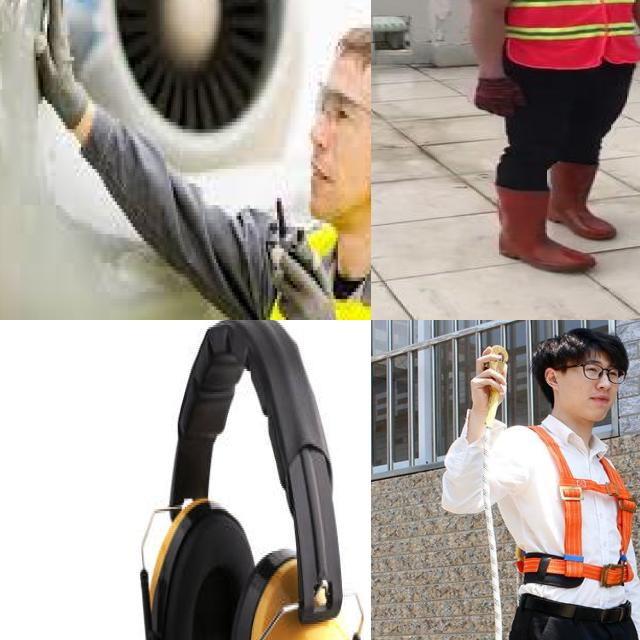Ear-protection: (127, 320, 370, 640)
Harness: (505, 413, 640, 627)
boots: (494, 182, 593, 273), (549, 162, 618, 238)
glasses: (309, 73, 369, 132)
hand_glove: (31, 0, 79, 136), (271, 242, 336, 320), (472, 76, 528, 116)
person: (39, 0, 371, 320), (452, 0, 640, 283)
vest: (250, 204, 371, 320), (502, 0, 640, 68)
